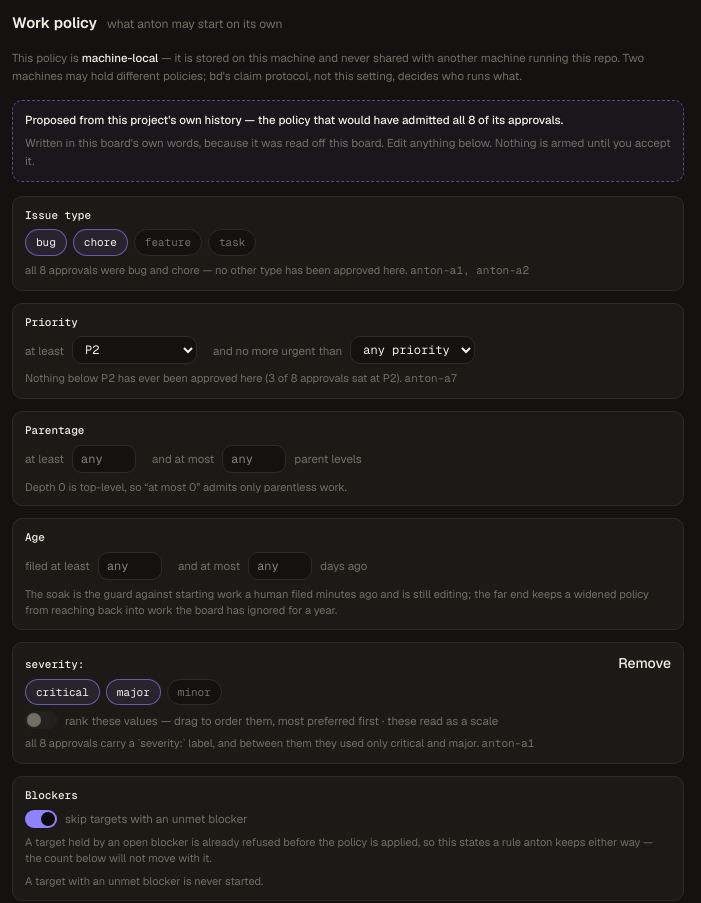
Test: the boundary is legible (R2.6) › moves the count as a criterion changes
Note: Widen the namespace: the chore that only carries `severity:minor` comes in.
Step 1. Click the switch named "severity:minor" → (194, 692), box x1=167 y1=679 x2=222 y2=705
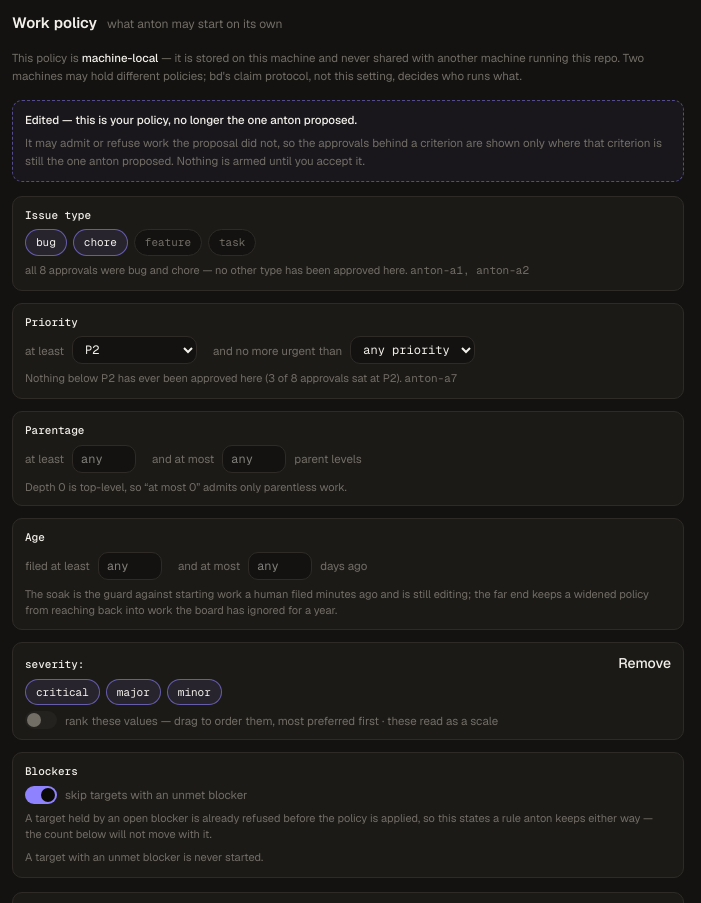
Note: Narrow a native field: both P2 beads fall out, leaving the one P1 bug.
Step 2. Select "P1" in the dropdown named "Minimum priority" → (135, 350), box x1=72 y1=336 x2=197 y2=364
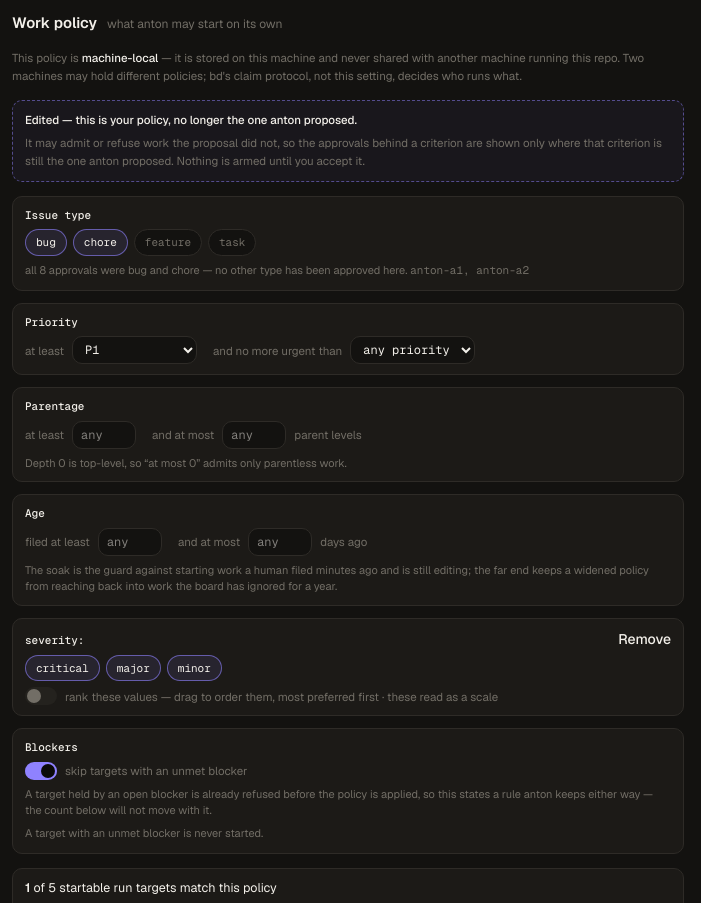
Check: the message reads "1 of 5 startable run targets match this policy", box x1=25 y1=879 x2=277 y2=896
